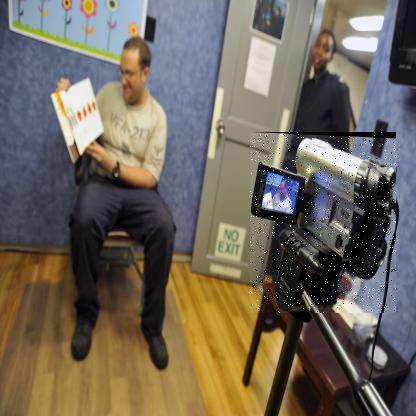Camera: (251, 134, 398, 316)
